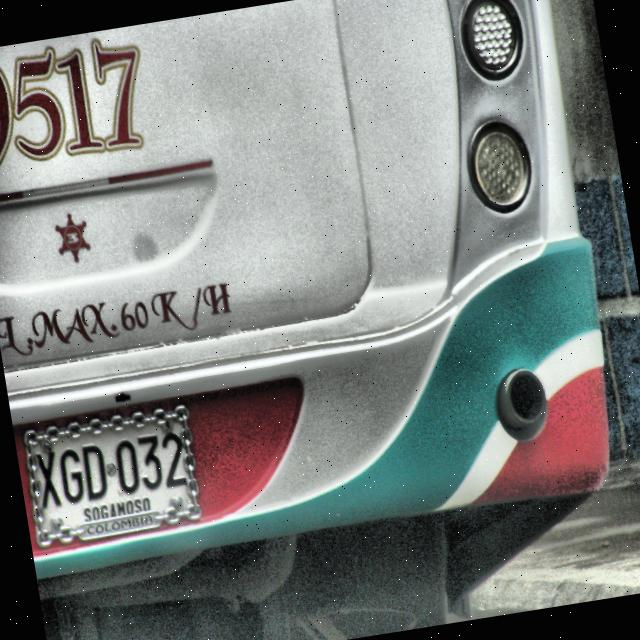0: (111, 438, 142, 498)
2: (158, 429, 190, 491)
3: (136, 433, 166, 492)
D: (80, 440, 110, 503)
G: (56, 445, 88, 506)
X: (34, 449, 65, 510)
